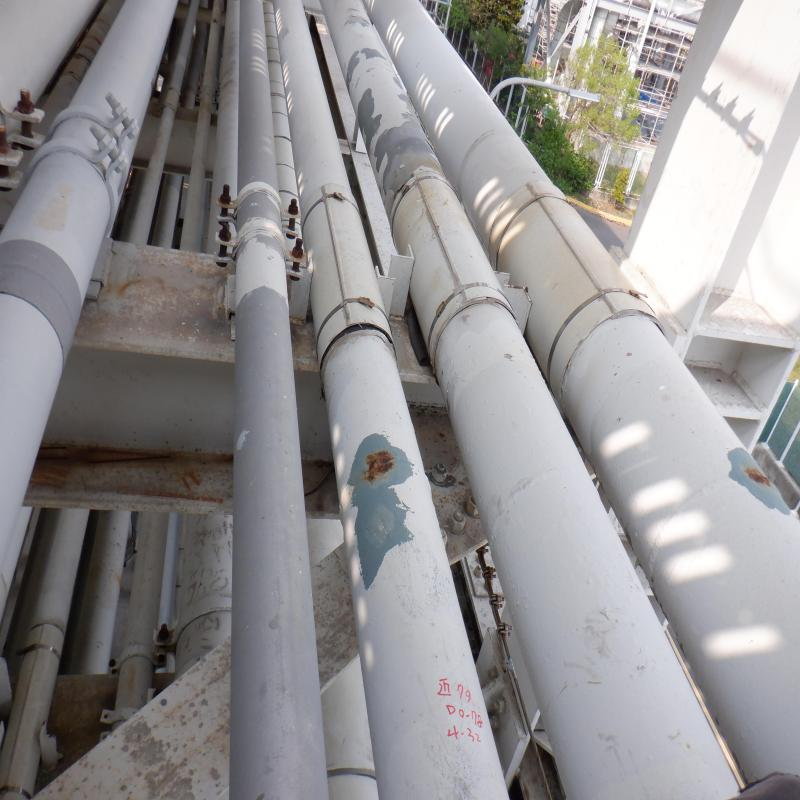corrosion: (366, 447, 396, 491)
